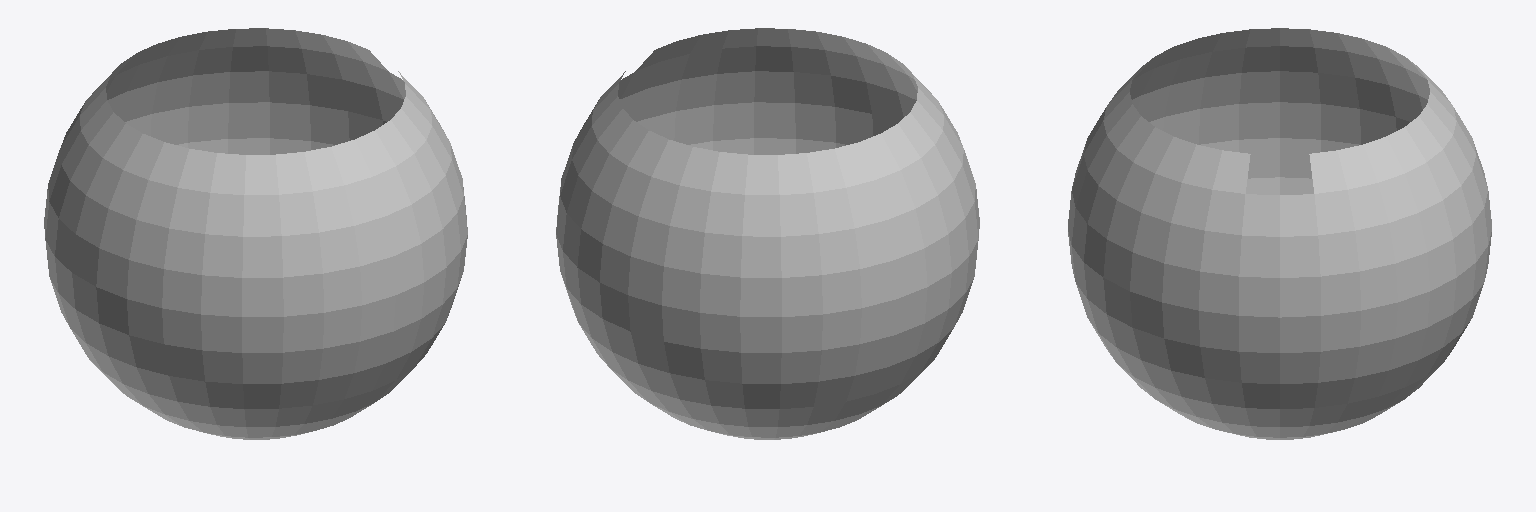
The model's file is ball2.obj.
The picture shows the model from 3 angles: view 1: azimuth 30°, elevation 25°; view 2: azimuth 150°, elevation 25°; view 3: azimuth 270°, elevation 25°; orthographic projection.
Visible parts, largest first — view 1: Sphere; view 2: Sphere; view 3: Sphere.
Boxes of the visible parts, <box> form: Sphere: <box>44,28,467,439</box>; Sphere: <box>556,28,979,439</box>; Sphere: <box>1068,28,1491,439</box>.
Bounding box in the file's own units: 2 × 1.71 × 2.